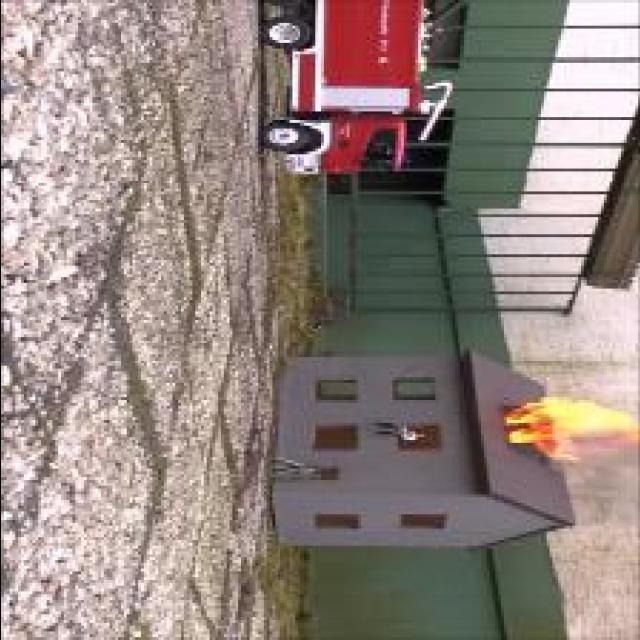Fire: (503, 397, 637, 460)
